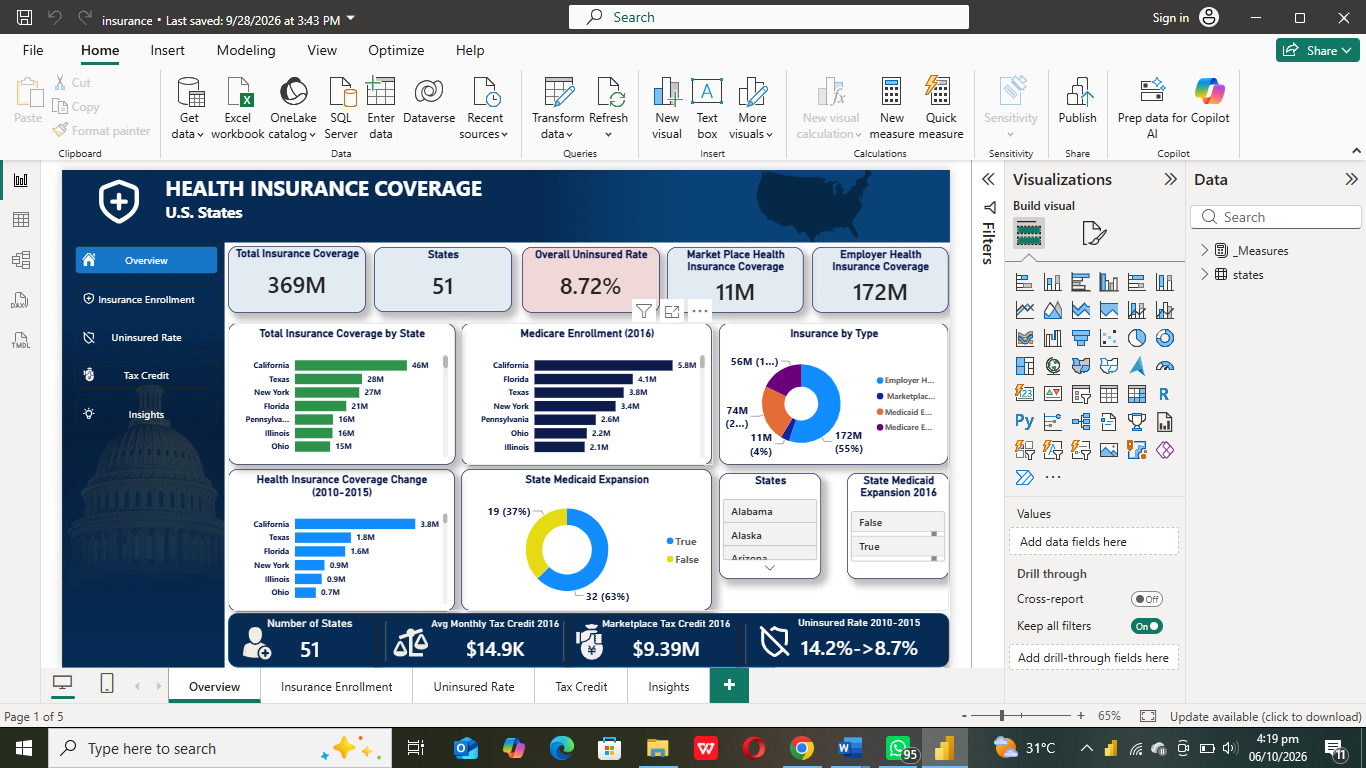

Layout of this report page (visuals, bound fields, positions):
{"tool":"powerbi","page":{"name":"Overview","canvas":[1366,768],"ordinal":0},"visuals":[{"type":"clusteredBarChart","title":"Medicare Enrollment (2016)","fields":{"Category":["states.State"],"Y":["Sum(states.Medicare Enrollment (2016))"]},"box":[614.5,235.4,386.4,218.7],"z":0,"group":"g6"},{"type":"shape","box":[254.7,682.1,1109.5,83.7],"z":0},{"type":"donutChart","title":"State Medicaid Expansion","fields":{"Category":["states.State Medicaid Expansion (2016)"],"Y":["CountNonNull(states.State Medicaid Expansion (2016))"]},"box":[614.4,459.8,386.3,218.4],"z":1000,"group":"g6"},{"type":"shape","box":[732,694.6,79,62.2],"z":1000},{"type":"clusteredBarChart","title":"Health Insurance Coverage Change (2010-2015)","fields":{"Category":["states.State"],"Y":["Sum(states.Health Insurance Coverage Change (2010-2015))"]},"box":[255.6,459.8,349.1,218.6],"z":2000,"group":"g6"},{"type":"shape","box":[1011.6,698.1,79,62.2],"z":2000},{"type":"cardVisual","title":"States","fields":{"Rows":["states.State"]},"box":[1011.4,466.3,157.2,162.8],"z":3000,"group":"g6"},{"type":"shape","box":[457.7,694.6,79,62.2],"z":3000},{"type":"cardVisual","title":"State Medicaid Expansion 2016","fields":{"Rows":["states.State Medicaid Expansion (2016)"]},"box":[1207.4,466.3,157.2,162.8],"z":4000,"group":"g6"},{"type":"group","id":"g1","title":"Group 8","box":[276.1,697,50.4,62.2],"z":4000},{"type":"clusteredBarChart","title":"Total Insurance Coverage by State","fields":{"Category":["states.State"],"Y":["_Measures.total insurance coverage"]},"box":[255.4,236,349.7,218.1],"z":5000,"group":"g6"},{"type":"group","id":"g2","title":"Group 9","box":[504,699.9,64.1,53.4],"z":5000},{"type":"pieChart","title":"Insurance by Type","fields":{"Y":["Sum(states.Employer Health Insurance Coverage (2015))","Sum(states.Marketplace Health Insurance Coverage (2016))","Sum(states.Medicaid Enrollment (2016))","Sum(states.Medicare Enrollment (2016))"]},"box":[1011.4,236,353.3,218.1],"z":6000,"group":"g6"},{"type":"group","id":"g3","title":"Group 10","box":[765.8,698.1,90.8,55.2],"z":6000},{"type":"group","id":"g4","title":"Group 11","box":[1050.8,696.4,92.6,55.2],"z":7000},{"type":"cardVisual","title":"Avg Monthly Tax Credit 2016","fields":{"Data":["_Measures.Total Average Monthly Tax Credit 2016"]},"box":[559.2,687.5,216.5,80],"z":8000},{"type":"cardVisual","title":"Number of States","fields":{"Data":["_Measures.total states"]},"box":[283.2,687.4,196.5,80.6],"z":9000},{"type":"cardVisual","title":"Marketplace Tax Credit 2016","fields":{"Data":["_Measures.Total Marketplace Tax Credit 2016"]},"box":[821,687.5,216.5,80],"z":10000},{"type":"cardVisual","title":"Uninsured Rate 2010-2015","fields":{"Data":["_Measures.Uninsured Rate"]},"box":[1097.1,685.7,260,80.1],"z":11000},{"type":"textbox","box":[153.3,0,860,103.3],"z":12000},{"type":"group","id":"g5","title":"Group 2","box":[255.4,116.9,1109.2,103.1],"z":13000},{"type":"cardVisual","title":"Total Insurance Coverage","fields":{"Data":["_Measures.total insurance coverage"]},"box":[255.4,116.9,211.9,102.6],"z":14000,"group":"g5"},{"type":"group","id":"g6","title":"Group 1","box":[255.4,235.4,1109.2,443.1],"z":14000},{"type":"pageNavigator","box":[20,116.9,220,281.5],"z":15000},{"type":"cardVisual","title":"Overall Uninsured Rate ","fields":{"Data":["Avg(states.Uninsured Rate (2015))"]},"box":[707.6,118.7,211.8,101.3],"z":15000,"group":"g5"},{"type":"image","box":[30.5,123.8,21.2,29.1],"z":16000},{"type":"image","box":[765.8,698.1,90.7,55.4],"z":16000,"group":"g3"},{"type":"cardVisual","title":"Employer Health Insurance Coverage ","fields":{"Data":["_Measures.Employer Health Insurance Coverage 2015"]},"box":[1154.5,118.7,210.1,100.8],"z":17000,"group":"g5"},{"type":"image","box":[30.5,183.4,21.2,29.1],"z":17000},{"type":"image","box":[276.1,697,50.4,62.2],"z":17000,"group":"g1"},{"type":"cardVisual","title":"Market Place Health Insurance Coverage","fields":{"Data":["_Measures.Market Place Health Insurance 2016"]},"box":[930.2,118.7,210.1,100.8],"z":18000,"group":"g5"},{"type":"image","box":[30.4,242.5,21.2,29.1],"z":18000},{"type":"image","box":[504,699.9,63.8,53.8],"z":18000,"group":"g2"},{"type":"cardVisual","title":"States","fields":{"Data":["_Measures.total states"]},"box":[479.7,118.7,211.8,100],"z":19000,"group":"g5"},{"type":"image","box":[30.3,300,21.2,29.1],"z":19000},{"type":"image","box":[30.7,359.5,21.2,29.1],"z":20000},{"type":"image","box":[30.8,7,113.8,81.5],"z":21000},{"type":"image","box":[1050.8,696.4,90.7,55.4],"z":23000,"group":"g4"}]}

Visuals, with their boxes on the page's 1366x768 design canvas (x1, y1, x2, y2). These are canvas units, not pixel positions in the 1366x768 screenshot, which may show the page scaled, cropped or inside an application window:
"Medicare Enrollment (2016)" clusteredBarChart: BBox(614, 235, 1001, 454)
shape: BBox(255, 682, 1364, 766)
"State Medicaid Expansion" donutChart: BBox(614, 460, 1001, 678)
shape: BBox(732, 695, 811, 757)
"Health Insurance Coverage Change (2010-2015)" clusteredBarChart: BBox(256, 460, 605, 678)
shape: BBox(1012, 698, 1091, 760)
"States" cardVisual: BBox(1011, 466, 1169, 629)
shape: BBox(458, 695, 537, 757)
"State Medicaid Expansion 2016" cardVisual: BBox(1207, 466, 1365, 629)
"Group 8" group: BBox(276, 697, 326, 759)
"Total Insurance Coverage by State" clusteredBarChart: BBox(255, 236, 605, 454)
"Group 9" group: BBox(504, 700, 568, 753)
"Insurance by Type" pieChart: BBox(1011, 236, 1365, 454)
"Group 10" group: BBox(766, 698, 857, 753)
"Group 11" group: BBox(1051, 696, 1143, 752)
"Avg Monthly Tax Credit 2016" cardVisual: BBox(559, 688, 776, 768)
"Number of States" cardVisual: BBox(283, 687, 480, 768)
"Marketplace Tax Credit 2016" cardVisual: BBox(821, 688, 1038, 768)
"Uninsured Rate 2010-2015" cardVisual: BBox(1097, 686, 1357, 766)
textbox: BBox(153, 0, 1013, 103)
"Group 2" group: BBox(255, 117, 1365, 220)
"Total Insurance Coverage" cardVisual: BBox(255, 117, 467, 220)
"Group 1" group: BBox(255, 235, 1365, 678)
pageNavigator: BBox(20, 117, 240, 398)
"Overall Uninsured Rate " cardVisual: BBox(708, 119, 919, 220)
image: BBox(30, 124, 52, 153)
image: BBox(766, 698, 856, 754)
"Employer Health Insurance Coverage " cardVisual: BBox(1154, 119, 1365, 220)
image: BBox(30, 183, 52, 212)
image: BBox(276, 697, 326, 759)
"Market Place Health Insurance Coverage" cardVisual: BBox(930, 119, 1140, 220)
image: BBox(30, 242, 52, 272)
image: BBox(504, 700, 568, 754)
"States" cardVisual: BBox(480, 119, 692, 219)
image: BBox(30, 300, 52, 329)
image: BBox(31, 360, 52, 389)
image: BBox(31, 7, 145, 88)
image: BBox(1051, 696, 1142, 752)
